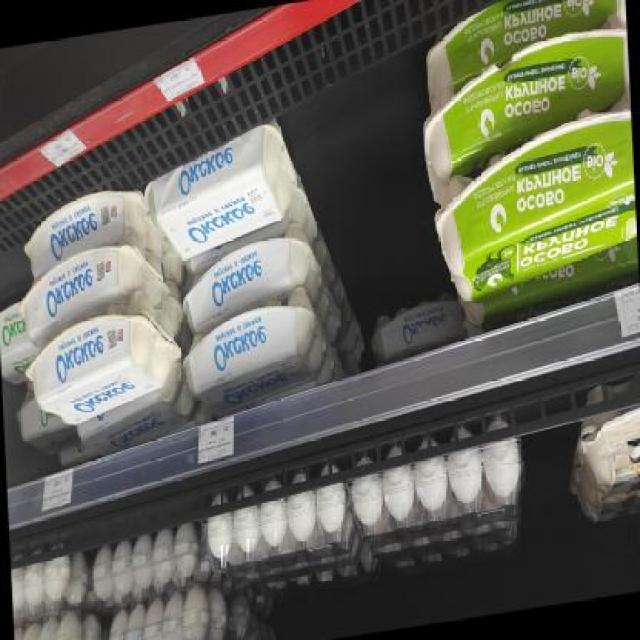Egg: (434, 106, 638, 306), (409, 21, 633, 194), (145, 117, 297, 265), (26, 291, 180, 432), (185, 286, 318, 409), (18, 236, 161, 344), (174, 231, 316, 332), (571, 376, 639, 534), (368, 292, 462, 369), (17, 403, 69, 459), (0, 307, 32, 383)
